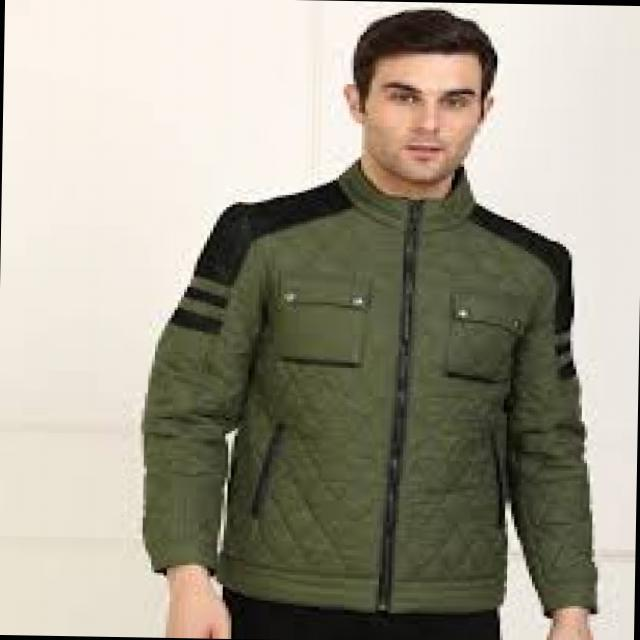jacket: (138, 156, 602, 617)
